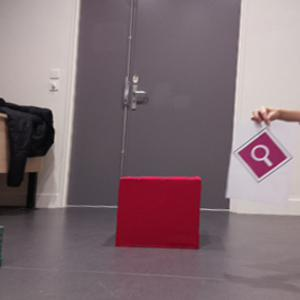search: (234, 126, 293, 183)
